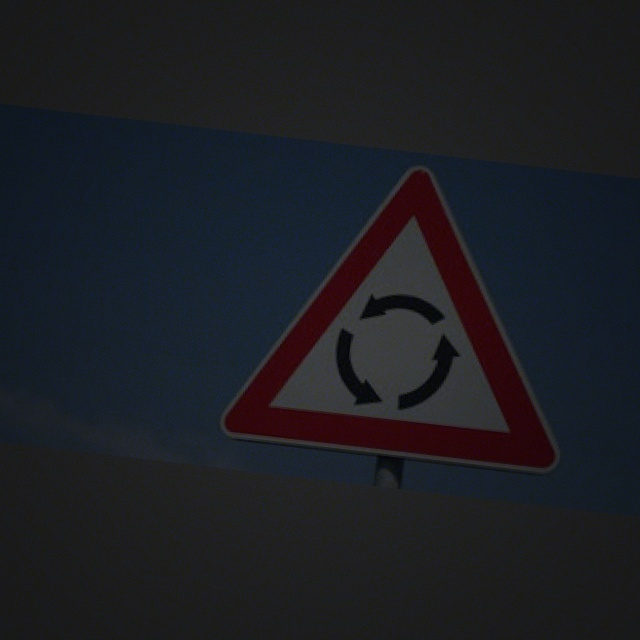Round_About: (224, 142, 579, 472)
